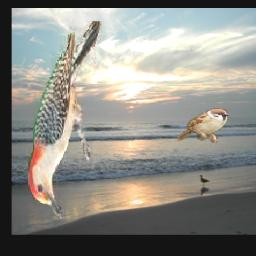Sparrow: (178, 109, 230, 144)
Woodpecker: (28, 22, 102, 220)
